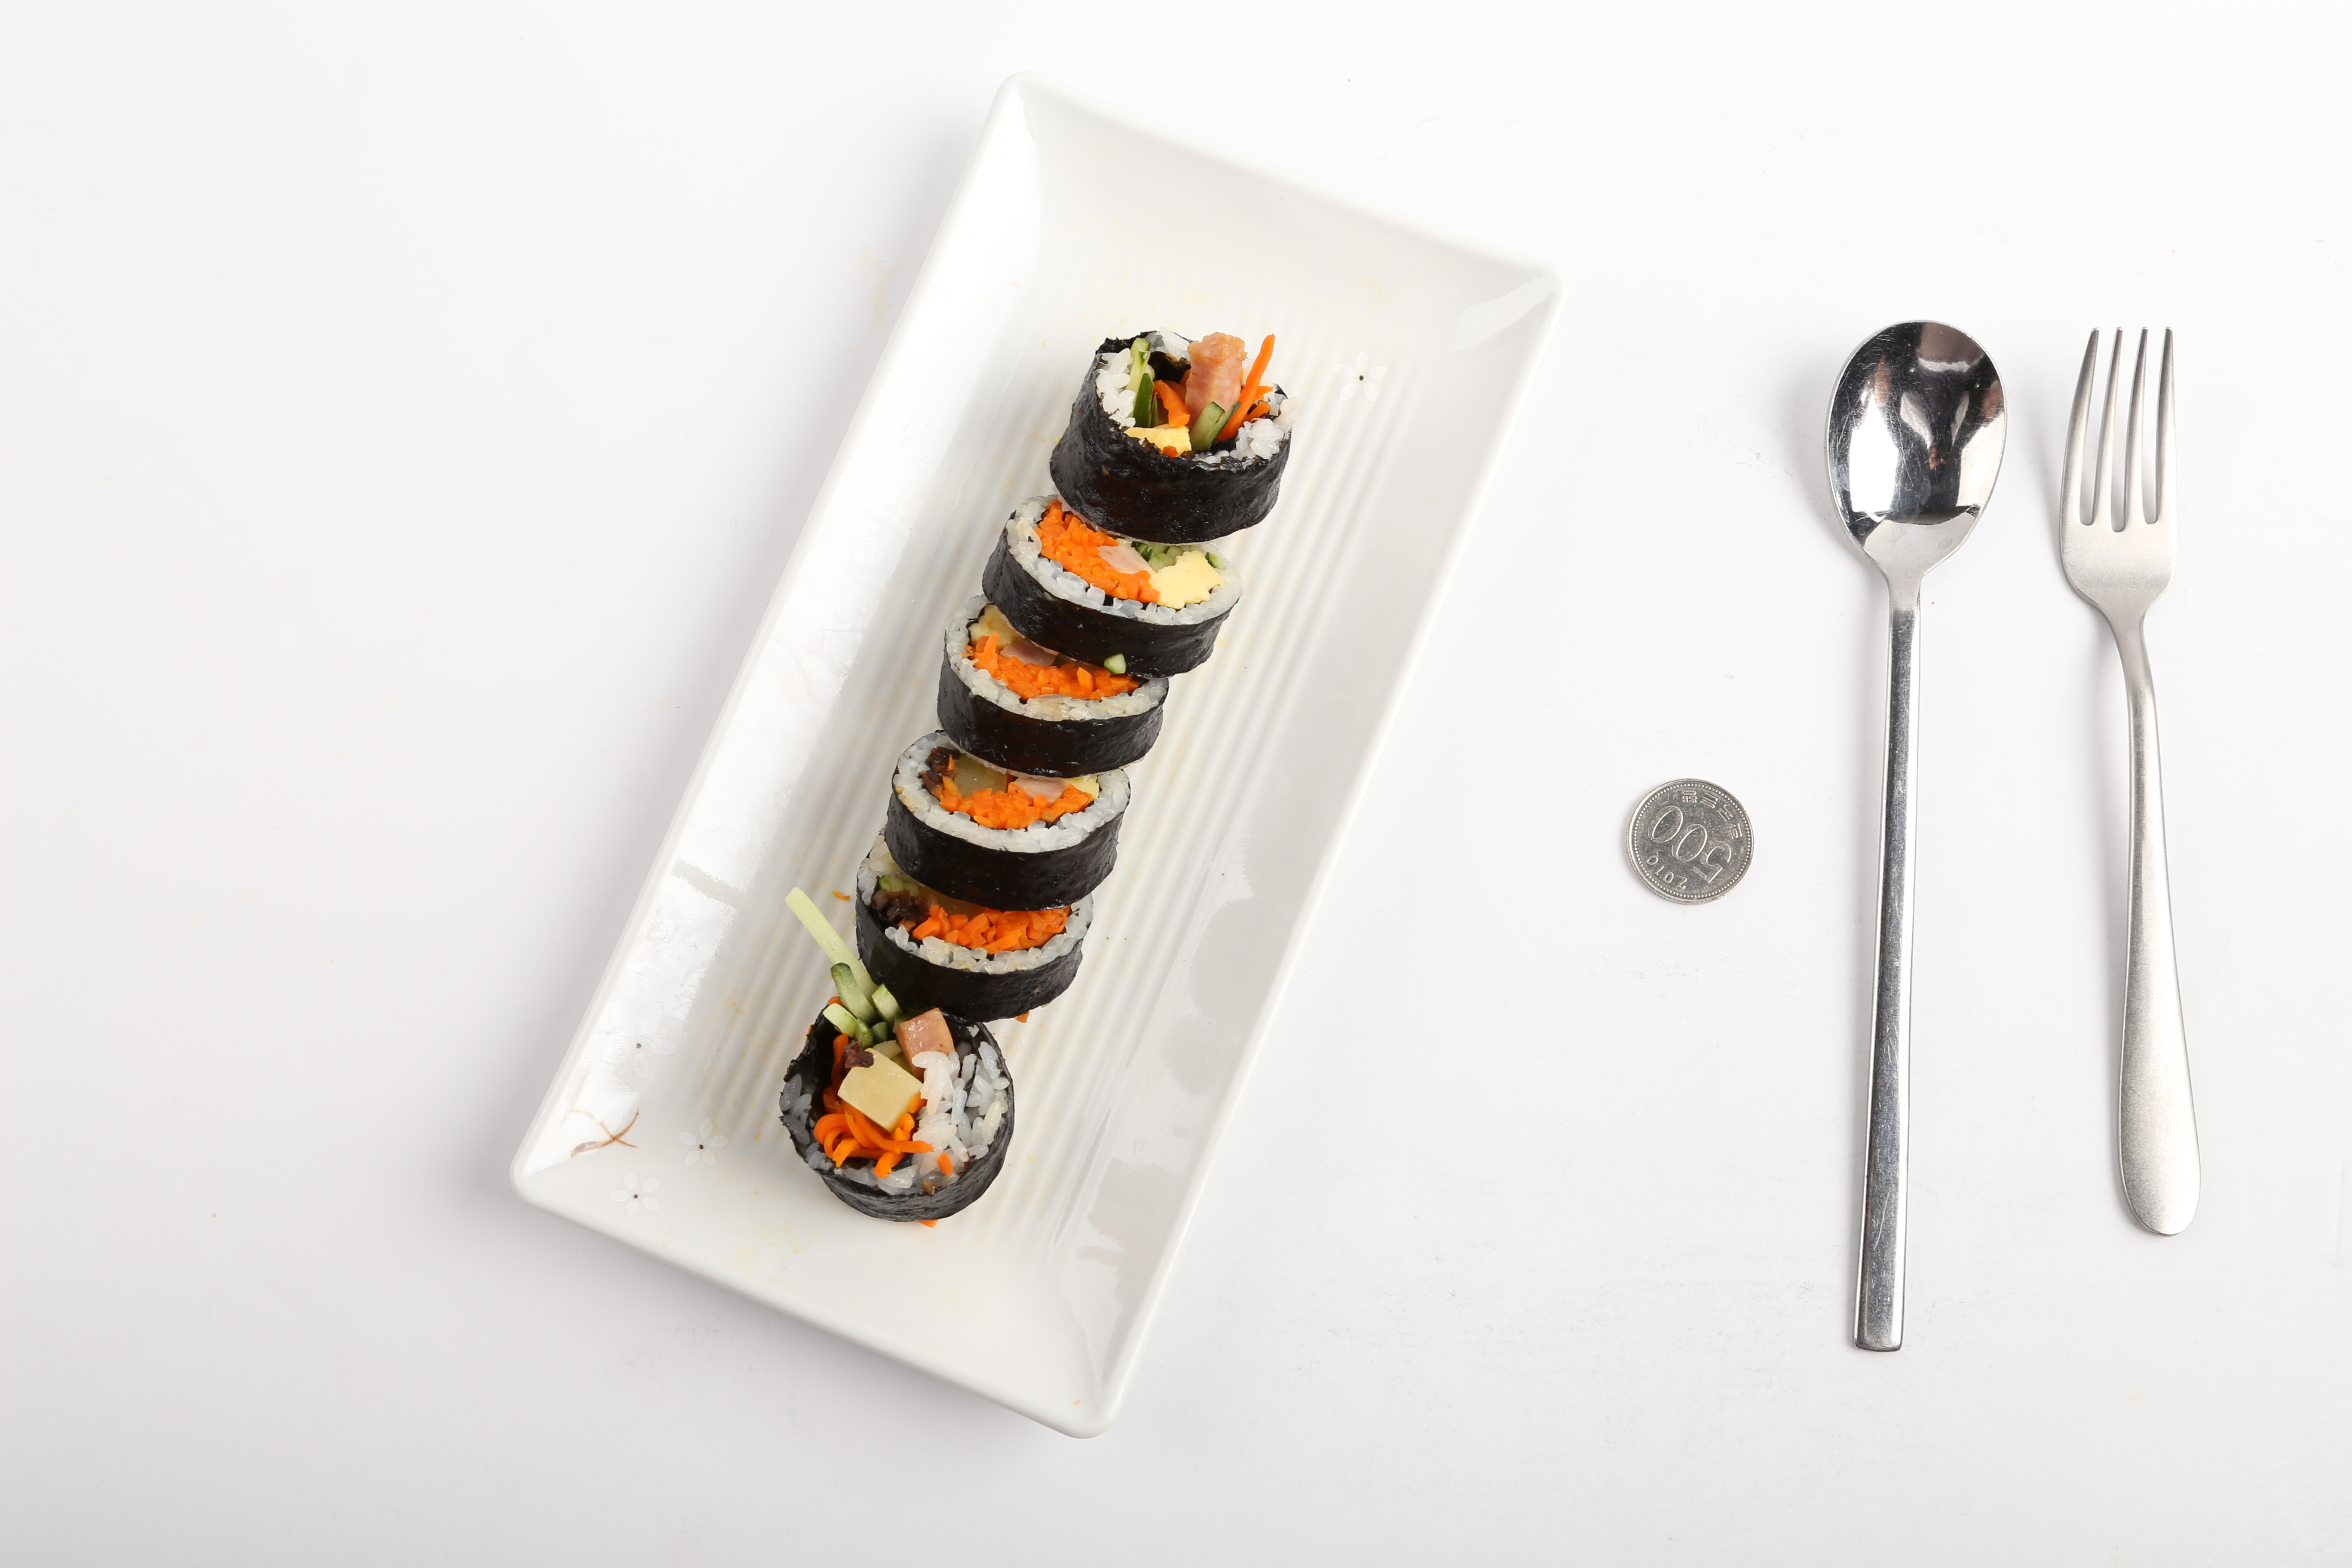dish: (506, 77, 1563, 1437)
ref_coin: (1615, 773, 1759, 910)
ref_fork: (2054, 315, 2184, 670)
ref_spoon: (1822, 317, 2011, 637)
김밥: (775, 331, 1295, 1223)
